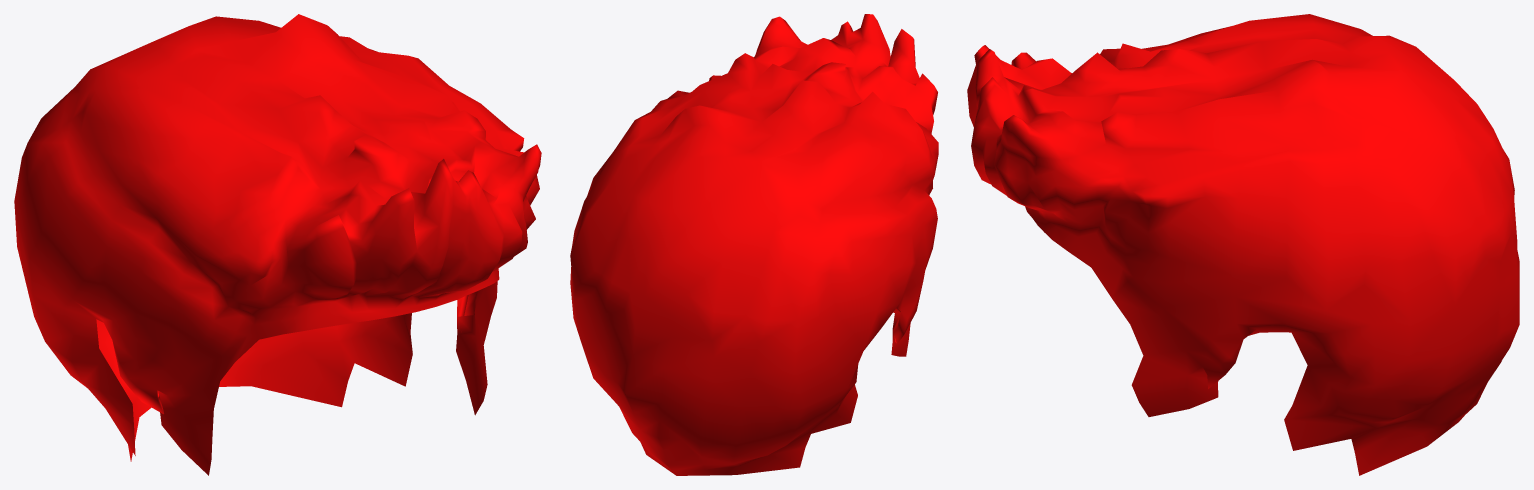
File: elvs_maxwell_hair_M.glb
3 views of the same model, side by side, from view 1: azimuth 30°, elevation 25°; view 2: azimuth 150°, elevation 25°; view 3: azimuth 270°, elevation 25° (orthographic). The views are drawn at different scales.
Size of the model in its own units: 0.2054 by 0.2098 by 0.2739.
Materials: 1 (1 with a texture image).
